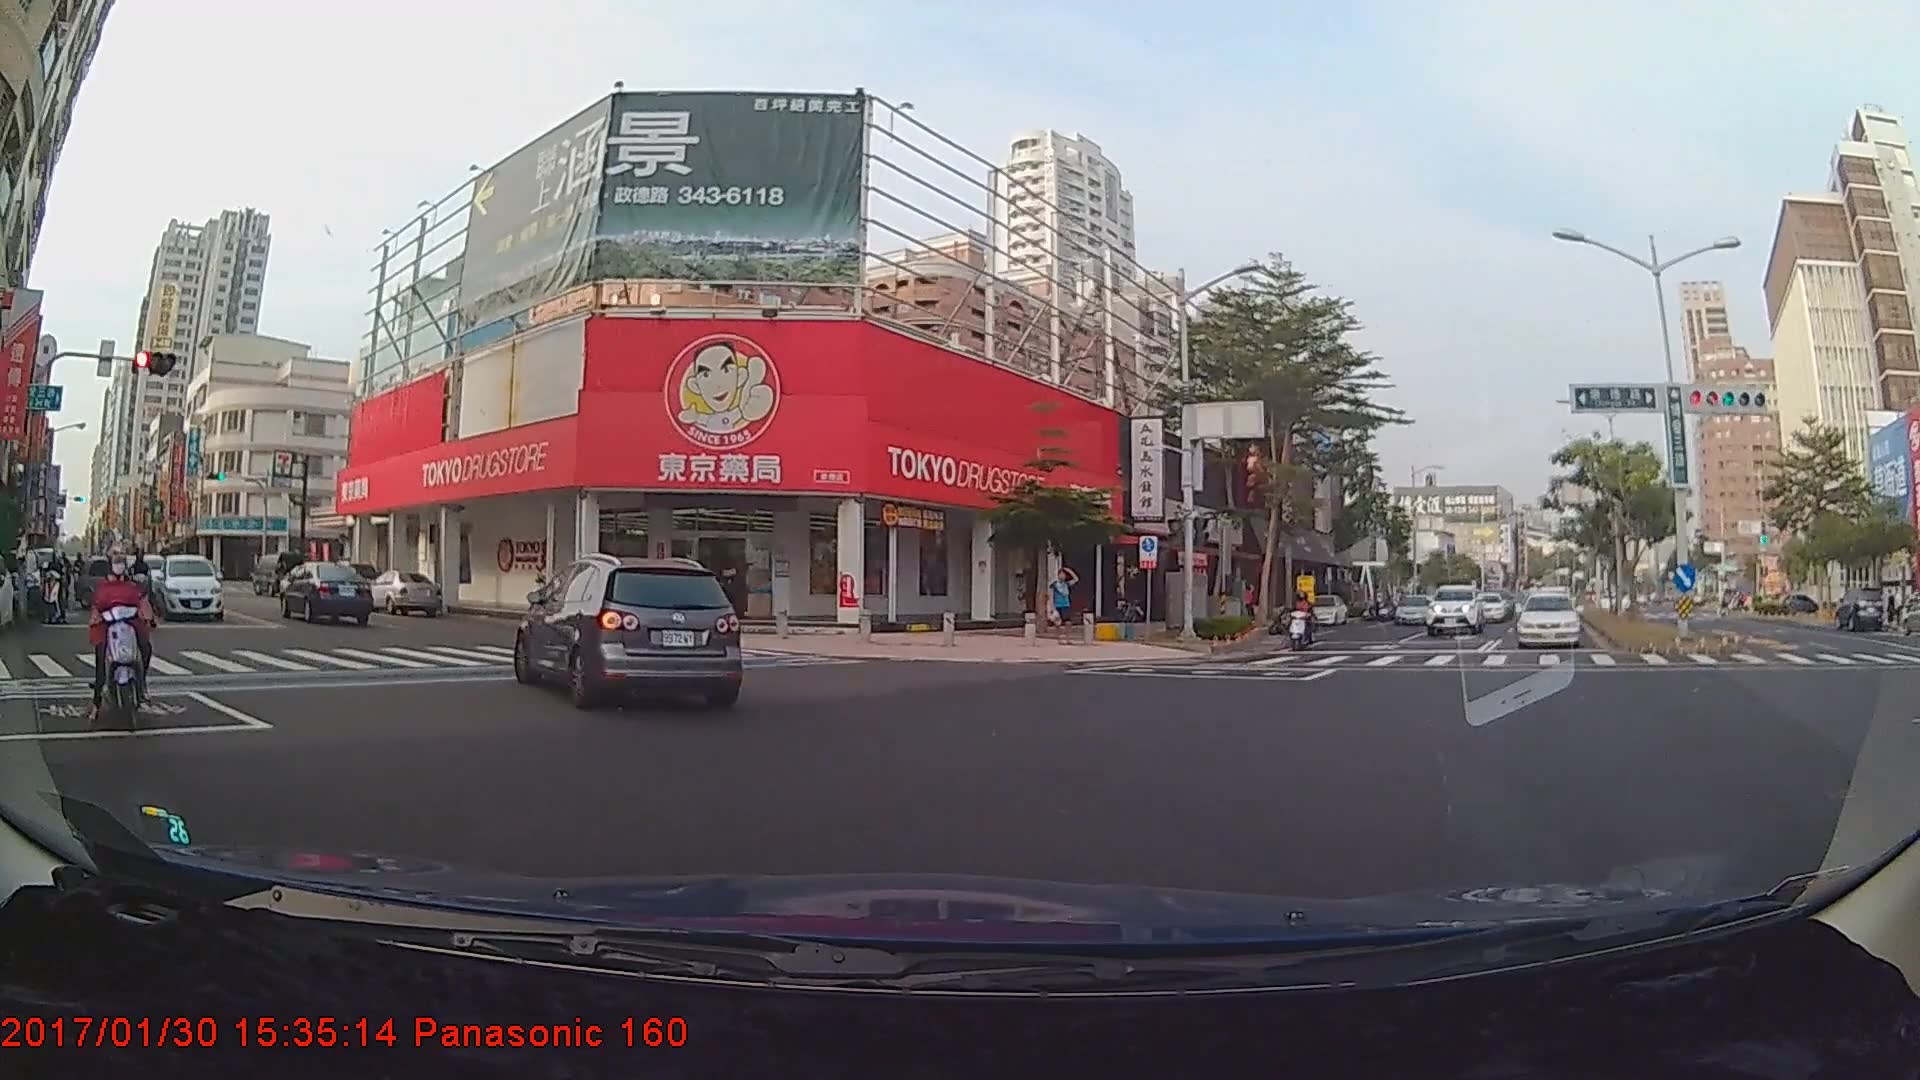pedestrian: (1049, 565, 1079, 645)
rider: (75, 544, 158, 759), (40, 543, 72, 624), (1284, 588, 1322, 653)
vehicle: (516, 553, 741, 710), (282, 559, 371, 625), (73, 556, 166, 610), (152, 556, 221, 624), (356, 567, 441, 617), (1513, 592, 1583, 648), (1424, 583, 1484, 636), (1831, 585, 1884, 632), (1297, 593, 1349, 624), (1393, 591, 1433, 624), (1469, 590, 1504, 622)
